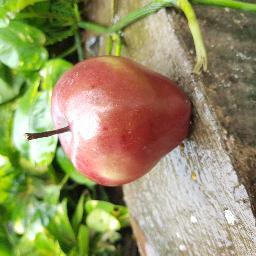Good_apple: (53, 56, 196, 190)
